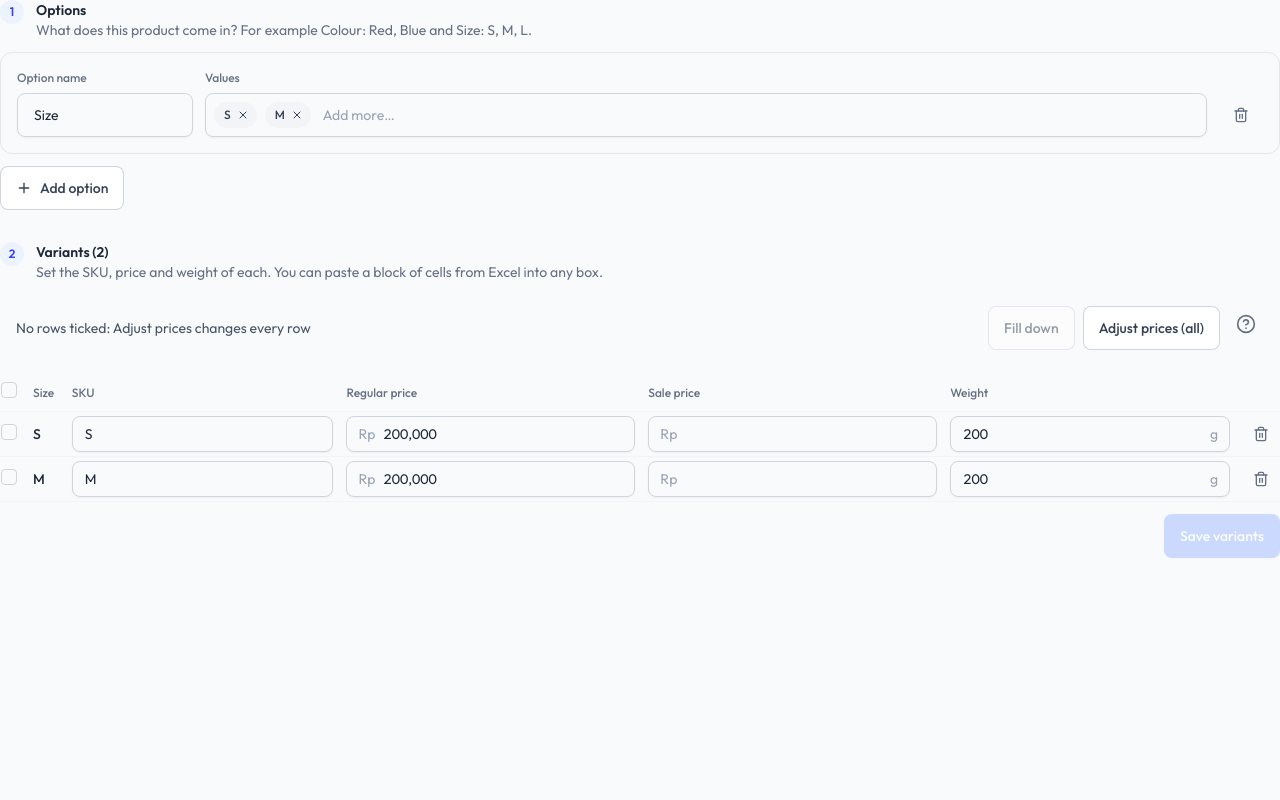
Scenario: BulkPriceAdjust (P1-047) › previews before applying, on the price the person chose
This screenshot has width=1280, height=800.
Click the button "Adjust prices (all)". click: click(1151, 328)
box: [1083,306,1220,350]
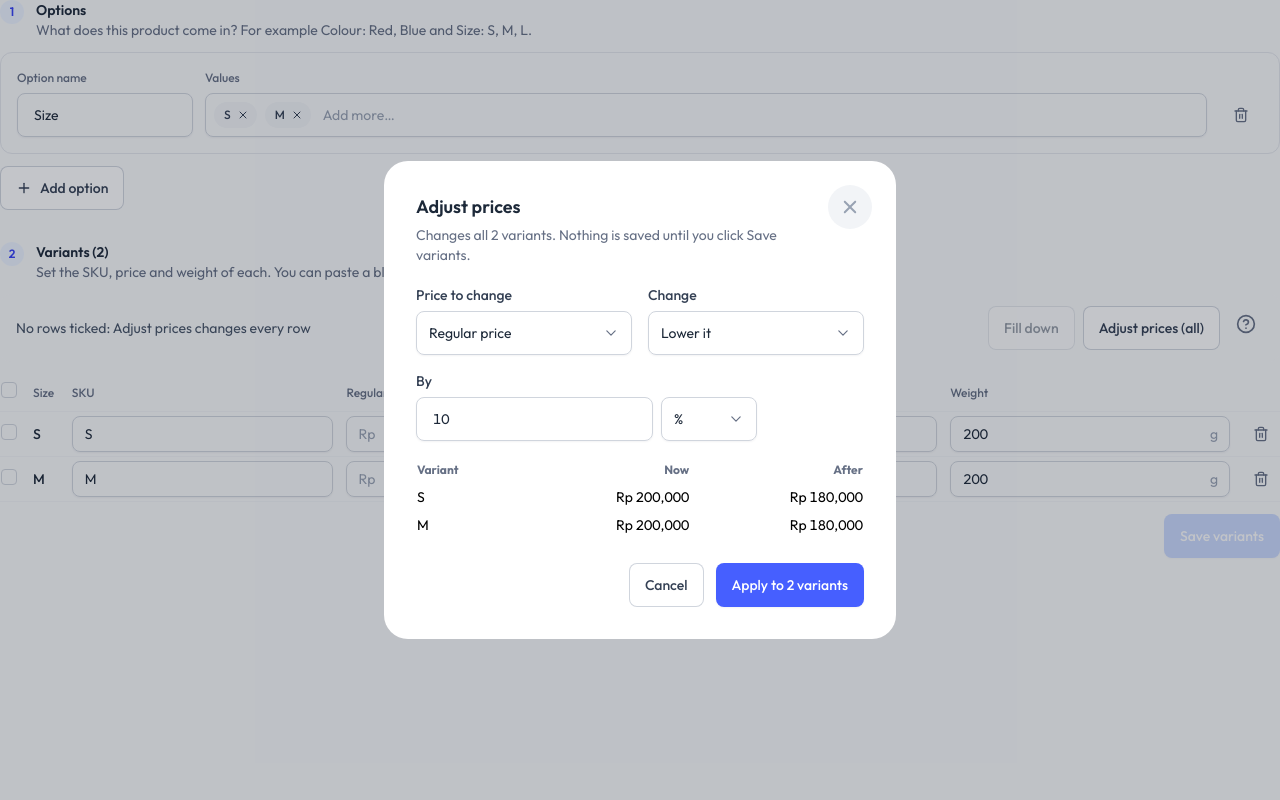
Click the button named "Price to change". click: click(524, 333)
box: [416,311,632,355]
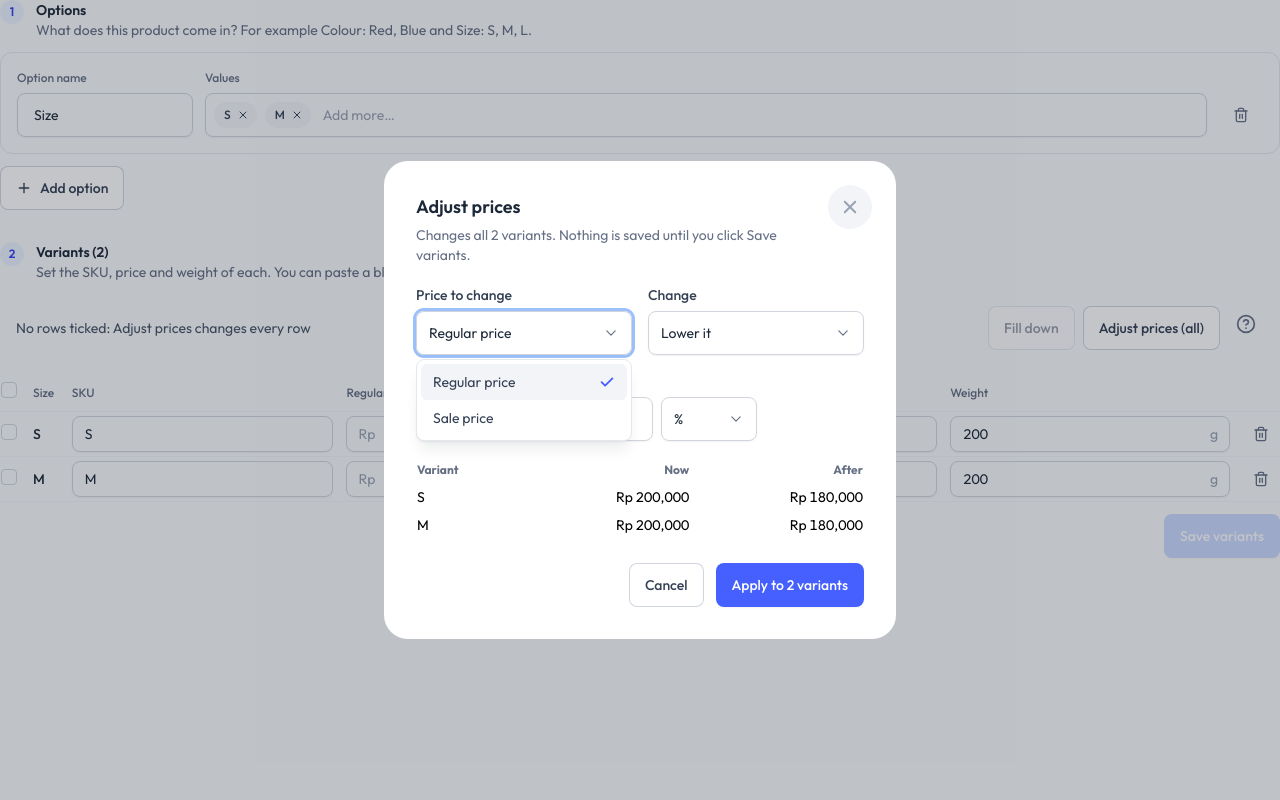
Click the option "Sale price". click: click(463, 418)
box: [433,409,494,427]
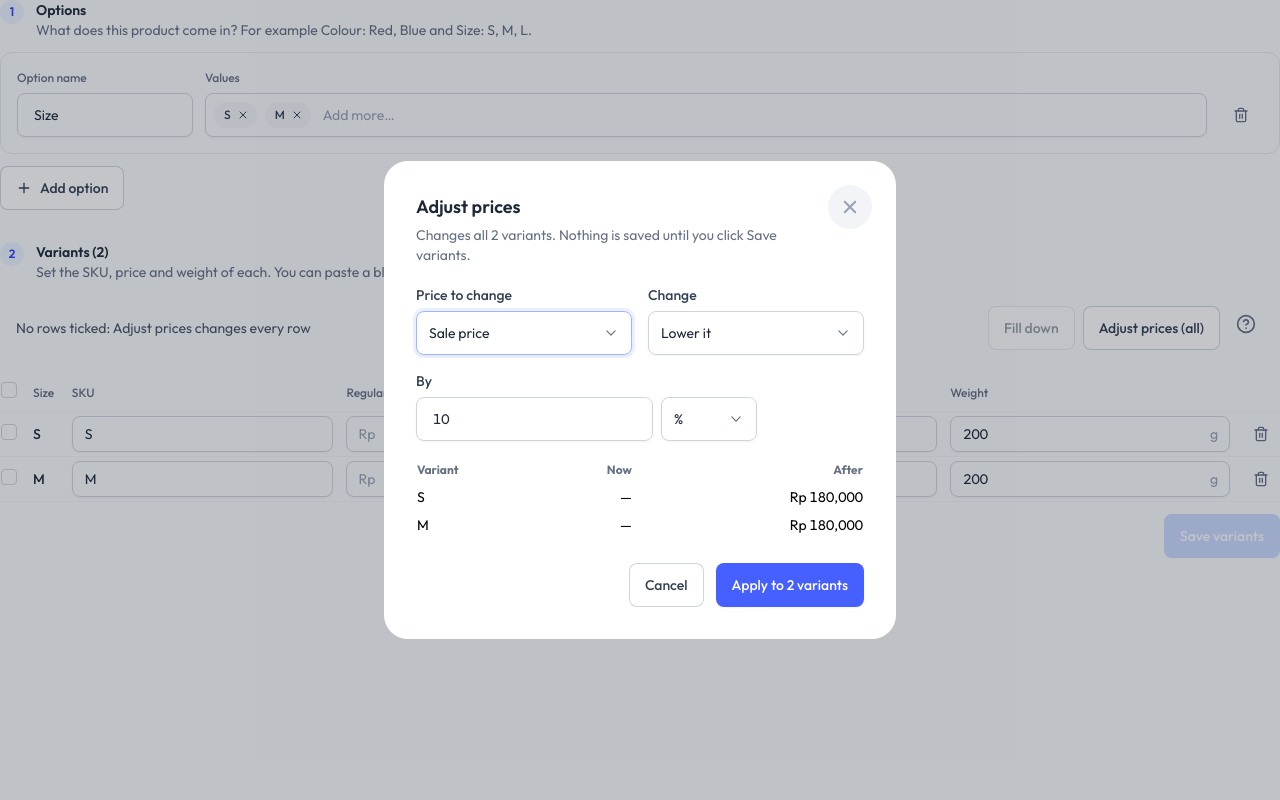
Expected: the field named "Sale price for S" is empty, [648,416,937,452]
Expected: the table named "Preview" shows "Rp 180,000", [790,488,863,506]
Click the button "Apply to 2 variants". click: click(790, 585)
box: [716,563,864,607]
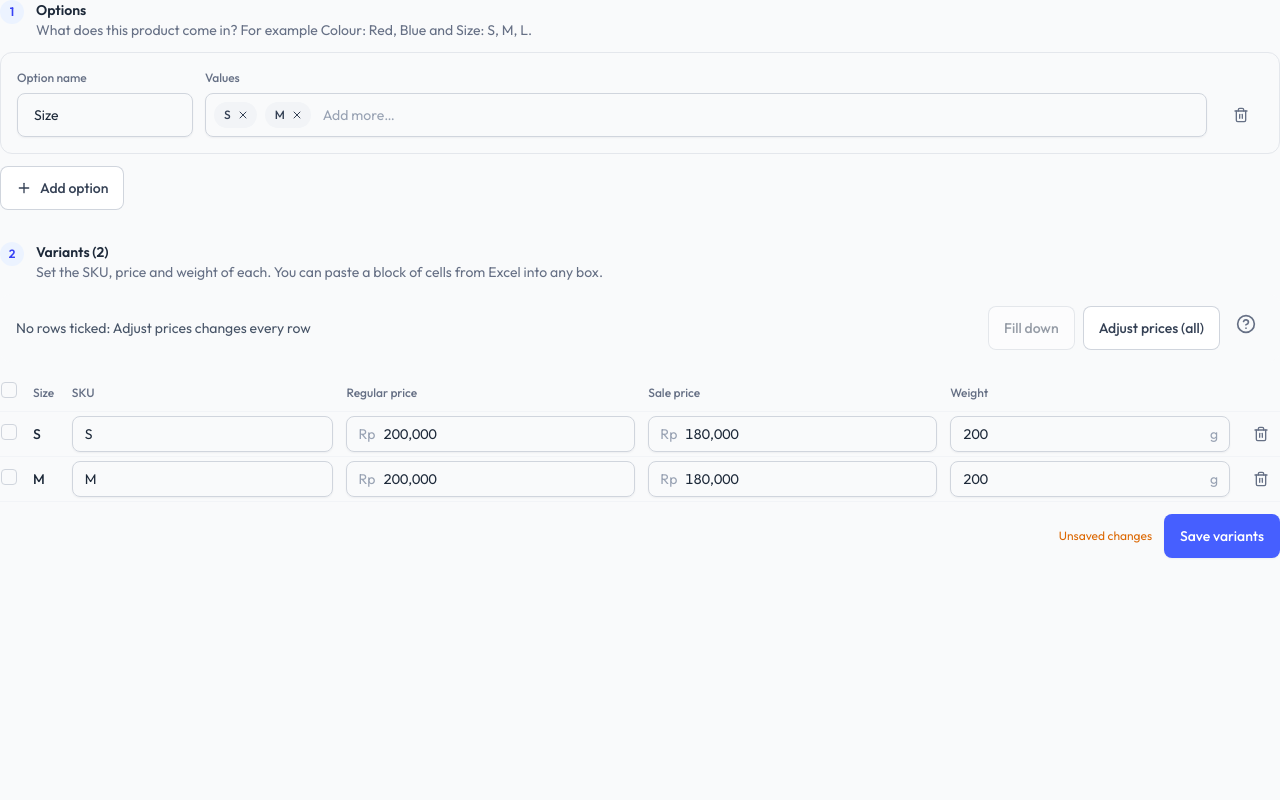
Expected: the field named "Regular price for S" holds "200,000", [346,416,635,452]
Expected: the field named "Sale price for S" holds "180,000", [648,416,937,452]
